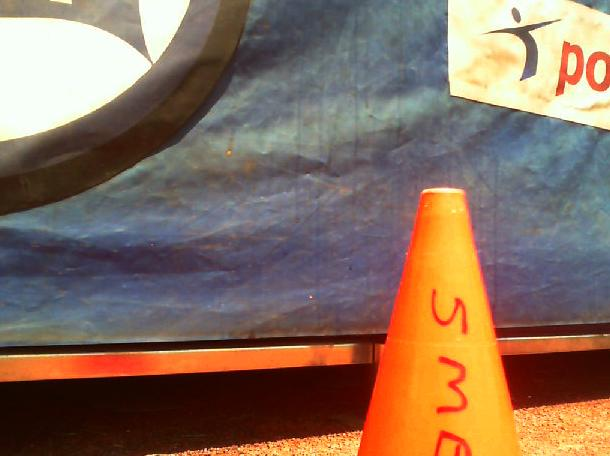0 cone: (356, 187, 520, 456)
